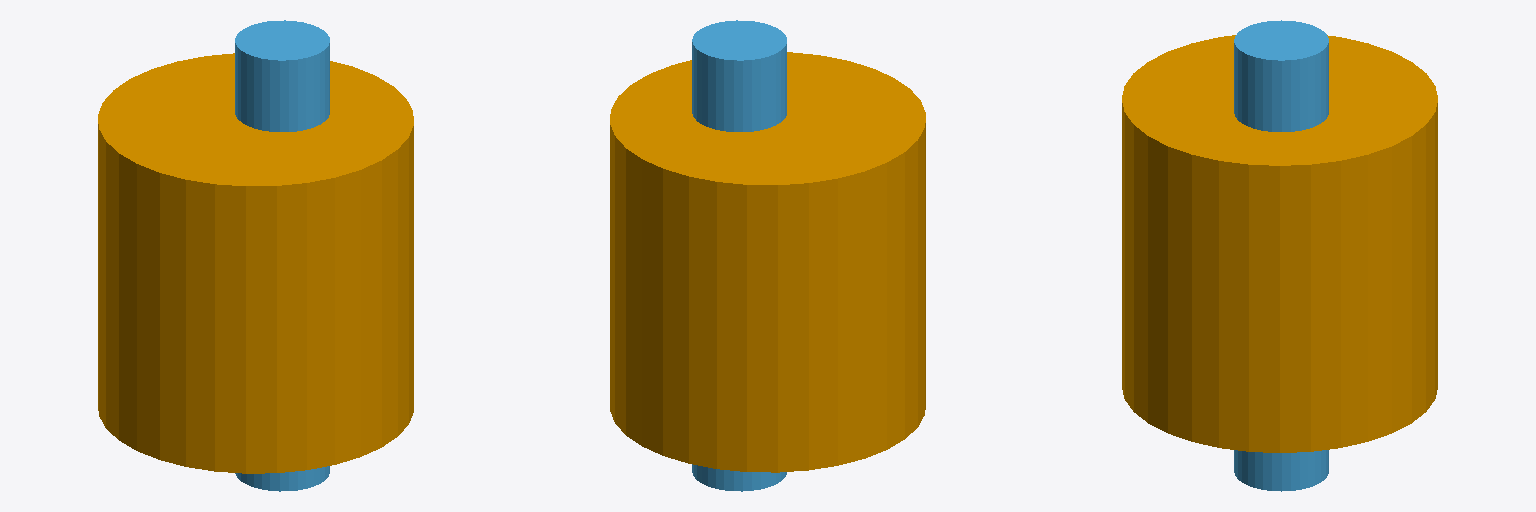
robot.urdf — movable_arm:
<?xml version="1.0"?>
<robot name="movable_arm">
  <!--TODO: Please complete this and make a pull request. -->
  <link name="base_link">
    <visual>
      <geometry>
        <cylinder length="2" radius="1" />
      </geometry>
    </visual>
    <inertial>
      <mass value="1" />
      <inertia ixx="1.0" ixy="1.0" ixz="1.0" iyy="1.0" iyz="1.0" izz="1.0" />
    </inertial>
    <collision>
      <geometry>
        <cylinder length="2" radius="1" />
      </geometry>
    </collision>
  </link>

  <link name="beam_link_1">
    <visual>
      <geometry>
        <cylinder length="3" radius="0.3" />
      </geometry>
    </visual>
    <inertial>
      <mass value="1" />
      <inertia ixx="1.0" ixy="1.0" ixz="1.0" iyy="1.0" iyz="1.0" izz="1.0" />
    </inertial>
    <collision>
      <geometry>
        <cylinder length="3" radius="0.3" />
      </geometry>
    </collision>
    <origin rpy="0 1.57075 0" xyz="0 0 -0.3"/>
  </link>

  <link name="beam_link_2">
    <visual>
      <geometry>
        <cylinder length="3" radius="0.3" />
      </geometry>
    </visual>
    <inertial>
      <mass value="1" />
      <inertia ixx="1.0" ixy="1.0" ixz="1.0" iyy="1.0" iyz="1.0" izz="1.0" />
    </inertial>
    <collision>
      <geometry>
        <cylinder length="3" radius="0.3" />
      </geometry>
    </collision>
    <origin rpy="0 1.57075 0" xyz="0 0 0.3"/>
  </link>

  <joint name="base_to_beam" type="revolute">
    <parent link="base_link" />
    <child link="beam_link_1" />
    <axis xyz="0 0 1" />
    <limit effort="1000.0" lower="-0.548" upper="0.548" velocity="0.5" />
    <origin rpy="0 0 0" xyz="0.2 0.01 0" />
  </joint>

  <joint name="beam_1_to_beam_2" type="fixed">
    <parent link="beam_link_1" />
    <child link="beam_link_2" />
  </joint>
<!--
  <gazebo reference="base_link">
    <static>true</static>
    <turnGravityOff>true</turnGravityOff>
  </gazebo>
-->
</robot>

--- Render facts (derived) ---
The picture shows the robot from 3 angles, left to right: view 1: azimuth 30°, elevation 25°; view 2: azimuth 150°, elevation 25°; view 3: azimuth 270°, elevation 25°; orthographic projection.
Robot: movable_arm — 3 links, 2 joints (1 revolute, 1 fixed); root link base_link; default pose: every joint at zero.
Links seen in each view (by area): view 1: base_link, beam_link_1; view 2: base_link, beam_link_1; view 3: base_link, beam_link_1.
Link boxes in pixels (left/top/right/bottom): base_link: left=98, top=53, right=413, bottom=473; beam_link_1: left=235, top=20, right=329, bottom=491; base_link: left=610, top=52, right=925, bottom=472; beam_link_1: left=692, top=20, right=786, bottom=491; base_link: left=1122, top=35, right=1437, bottom=452; beam_link_1: left=1234, top=20, right=1328, bottom=491.
Size in the robot's own frame: 2 by 2 by 3 metres.
Geometry: primitives only (box / cylinder / sphere), no mesh files.